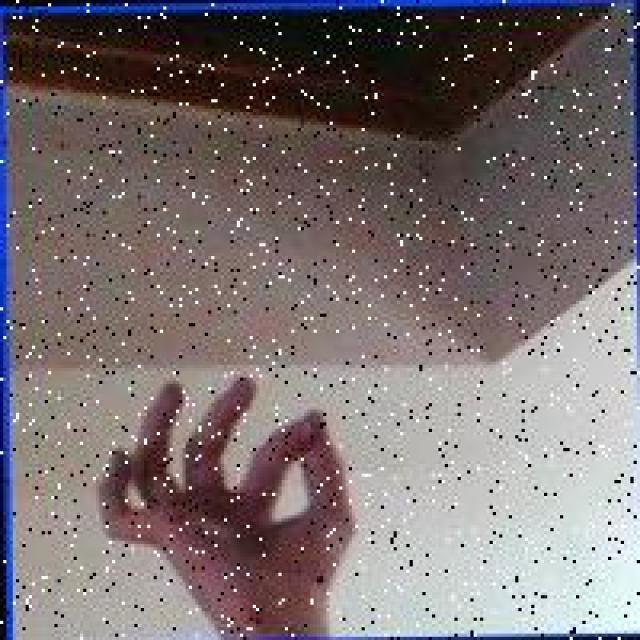F: (90, 367, 371, 636)
